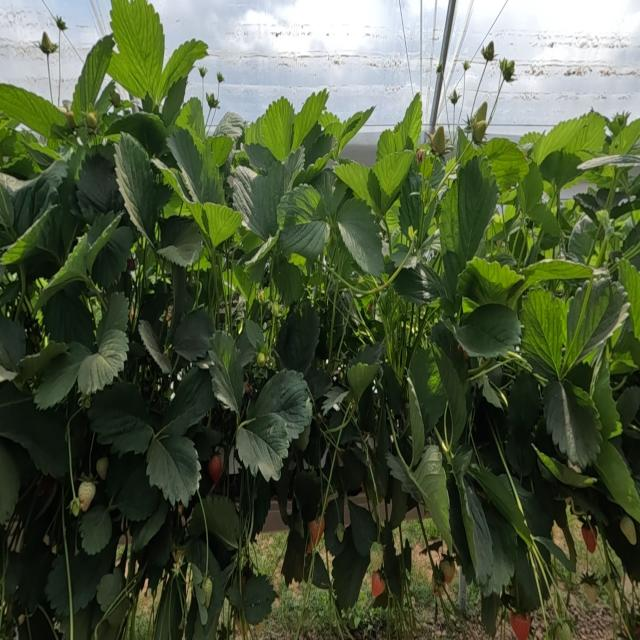Flowers: (206, 92, 219, 111), (198, 67, 207, 78), (217, 72, 223, 83)
Leaves: (441, 157, 499, 268), (564, 277, 626, 373), (114, 136, 164, 244), (325, 501, 374, 609), (1, 400, 68, 477), (112, 0, 163, 101), (0, 161, 68, 236), (544, 380, 601, 468), (89, 381, 157, 454), (78, 294, 127, 395), (468, 464, 530, 543), (186, 535, 233, 639), (34, 233, 91, 309), (278, 184, 330, 264), (253, 370, 311, 440), (521, 289, 566, 377), (10, 521, 54, 611), (413, 445, 451, 548), (533, 111, 607, 163), (506, 374, 543, 476), (146, 435, 199, 505), (458, 476, 492, 584), (35, 343, 91, 408), (162, 367, 214, 437), (337, 199, 383, 278), (235, 413, 290, 479), (432, 339, 467, 442), (1, 84, 66, 139), (1, 206, 62, 264), (72, 35, 114, 119), (456, 304, 520, 358), (109, 454, 161, 520), (70, 539, 118, 610), (596, 440, 639, 519), (409, 346, 445, 436), (332, 526, 370, 610), (276, 301, 319, 374), (483, 504, 517, 594), (157, 40, 207, 101), (76, 154, 122, 220), (207, 331, 243, 412), (43, 293, 95, 349), (460, 259, 522, 305), (231, 171, 272, 239), (398, 168, 436, 241), (253, 96, 294, 161), (167, 128, 203, 201), (109, 112, 167, 157), (92, 226, 133, 289), (374, 150, 413, 214), (96, 567, 130, 639), (483, 138, 527, 192), (592, 359, 621, 439), (229, 574, 275, 623), (508, 186, 535, 268), (292, 89, 327, 151), (153, 569, 184, 639), (264, 149, 304, 203), (335, 162, 375, 215), (172, 309, 214, 359), (157, 221, 203, 266), (333, 107, 374, 156), (576, 187, 640, 218), (393, 263, 441, 304), (203, 494, 239, 547), (108, 53, 149, 98), (392, 93, 422, 149), (203, 203, 241, 247), (198, 140, 224, 204), (618, 260, 639, 339), (139, 321, 171, 372), (0, 444, 20, 524), (312, 169, 347, 214), (79, 506, 111, 554), (271, 256, 303, 304), (349, 501, 377, 555), (294, 471, 319, 531), (1, 313, 26, 371), (302, 123, 333, 169), (517, 161, 543, 215), (46, 554, 69, 615), (567, 216, 597, 262), (328, 233, 357, 278), (162, 78, 187, 127), (548, 151, 579, 190), (170, 264, 186, 335), (339, 450, 364, 495), (530, 204, 561, 237), (244, 143, 275, 172), (212, 112, 244, 140), (305, 366, 331, 400), (376, 130, 403, 161), (351, 341, 384, 365), (420, 155, 444, 188), (233, 265, 254, 302), (418, 229, 441, 262), (187, 97, 205, 139), (210, 135, 233, 166), (236, 329, 255, 366), (455, 126, 473, 164), (574, 193, 600, 219), (323, 387, 347, 412), (391, 245, 417, 268), (245, 320, 264, 351), (74, 609, 92, 639), (61, 619, 69, 639)
Strawberries: (470, 101, 487, 145), (308, 518, 324, 551), (510, 613, 529, 639), (78, 482, 95, 511), (38, 32, 57, 56), (620, 516, 635, 544), (208, 454, 222, 483), (369, 542, 383, 571), (431, 128, 445, 156), (440, 557, 455, 583), (499, 58, 514, 82), (581, 583, 598, 603), (582, 525, 595, 551), (472, 121, 487, 142), (555, 622, 572, 639), (372, 572, 384, 596), (481, 41, 494, 62), (96, 458, 107, 479), (85, 113, 98, 130), (54, 16, 68, 31), (256, 352, 266, 366), (450, 89, 458, 105), (337, 523, 343, 541), (436, 62, 444, 73), (463, 61, 470, 71)
